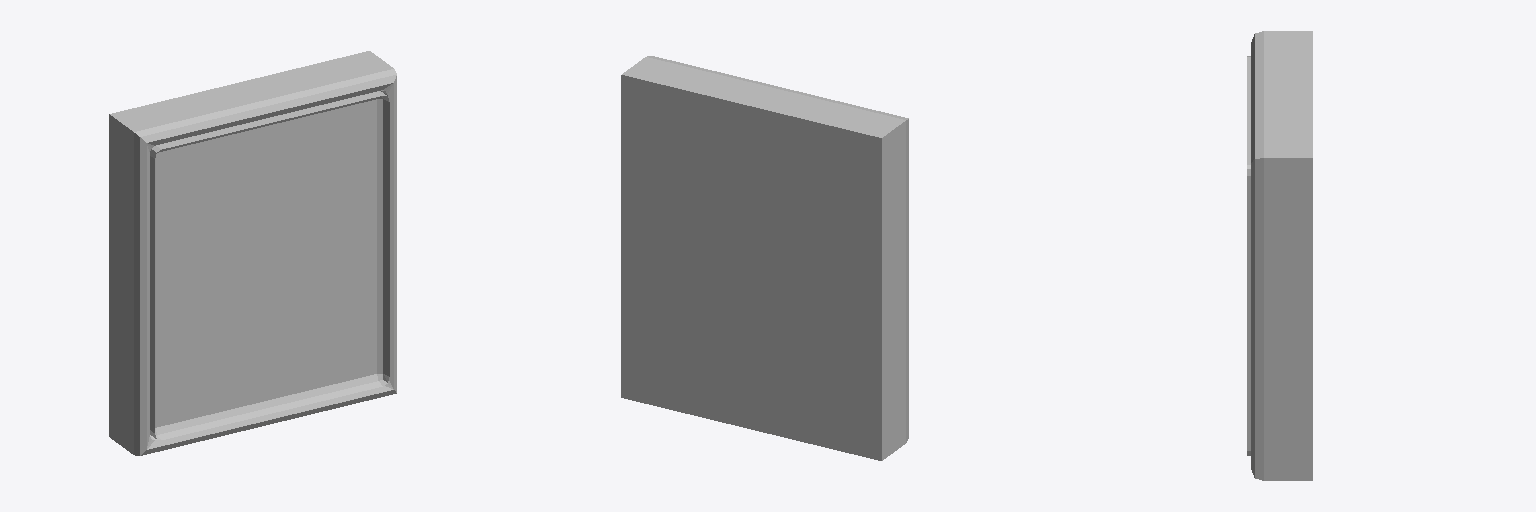
File: Side_screen_mesh.obj
3 renders of one model, left to right at view 1: azimuth 30°, elevation 25°; view 2: azimuth 150°, elevation 25°; view 3: azimuth 270°, elevation 25°, orthographic.
Parts seen in each view (by area): view 1: Side_Screen_Side_Screen; view 2: Side_Screen_Side_Screen; view 3: Side_Screen_Side_Screen.
Boxes of the visible parts, x1,y1,x2,y2 form: Side_Screen_Side_Screen: [109, 51, 396, 455]; Side_Screen_Side_Screen: [621, 56, 908, 460]; Side_Screen_Side_Screen: [1247, 31, 1312, 480].
Bounding box in the file's own units: 24.47 × 29.02 × 5.36.